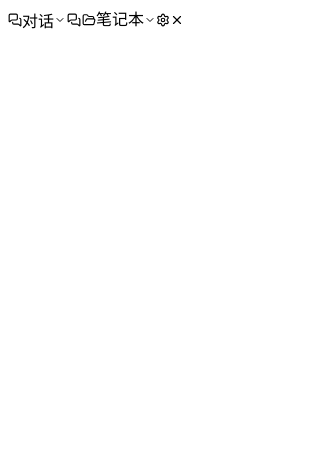
Test: interview onboarding panel › opens the resume guide before the avatar panel
Click the button "对话" at (37, 20), box [8,8,66,32]
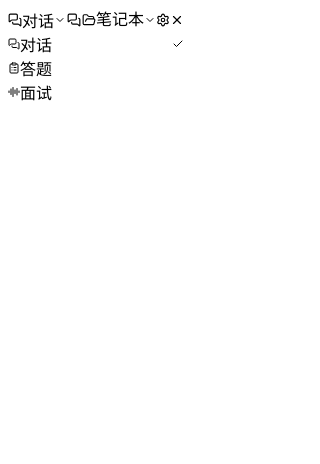
Click the menu item "面试" at (96, 92), box [8,80,184,104]
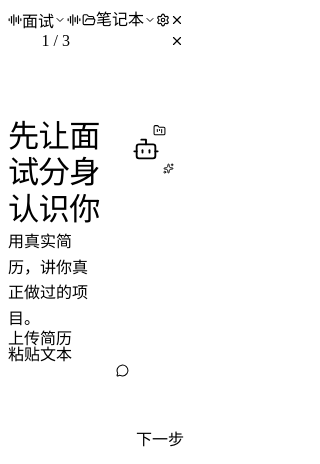
Now the heading "先让面试分身认识你" is shown, box [8,119,100,229]
Click the button "上传简历" at (40, 339), box [8,331,72,347]
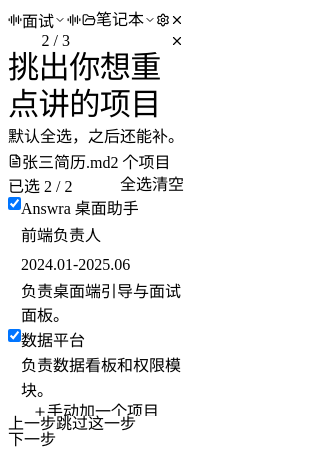
Now the heading "挑出你想重点讲的项目" is shown, box [8,50,184,124]
